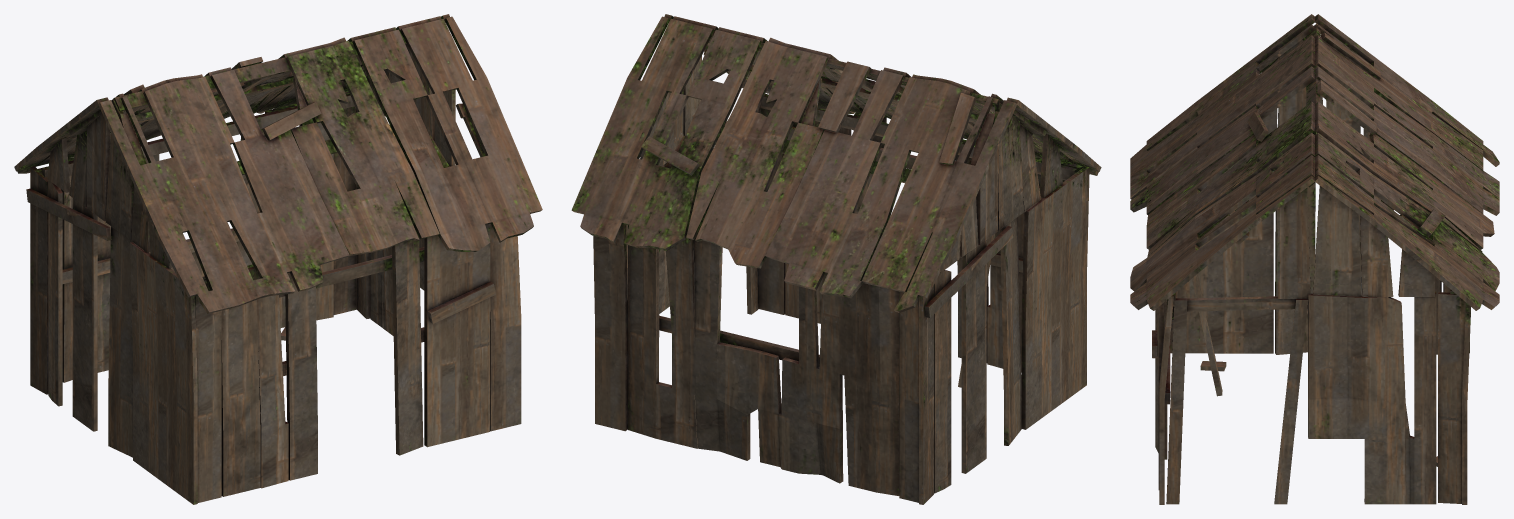
Rendered from shed.glb.
3 renders of one model, left to right at view 1: azimuth 30°, elevation 25°; view 2: azimuth 150°, elevation 25°; view 3: azimuth 270°, elevation 25°, orthographic. The views are drawn at different scales.
Parts seen in each view (by area): view 1: broken_down_shed_Plane; view 2: broken_down_shed_Plane; view 3: broken_down_shed_Plane.
Boxes of the visible parts, <box> form: broken_down_shed_Plane: <box>14,14,542,504</box>; broken_down_shed_Plane: <box>571,14,1101,504</box>; broken_down_shed_Plane: <box>1130,14,1499,504</box>.
Size of the model in its own units: 3.43 by 3.21 by 3.21.
1 material, 1 textured.
